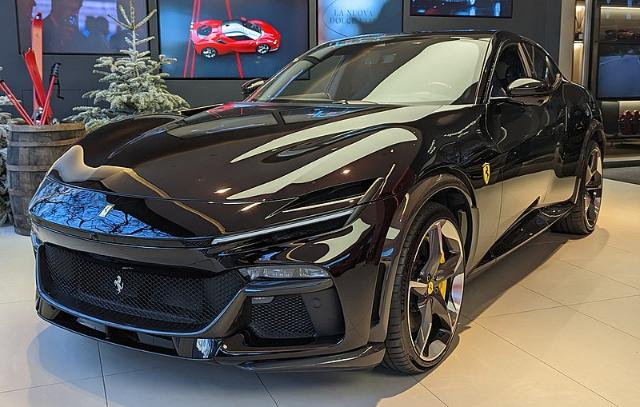ferrari: (27, 30, 607, 374)
